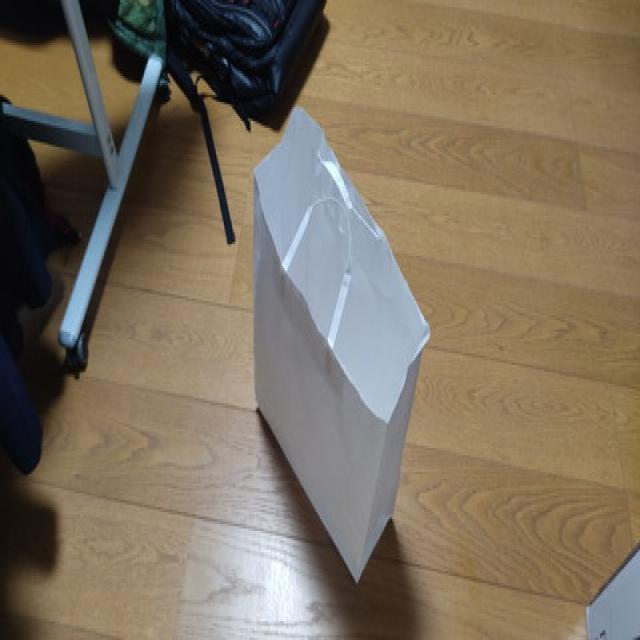paper bag: (250, 106, 431, 590)
